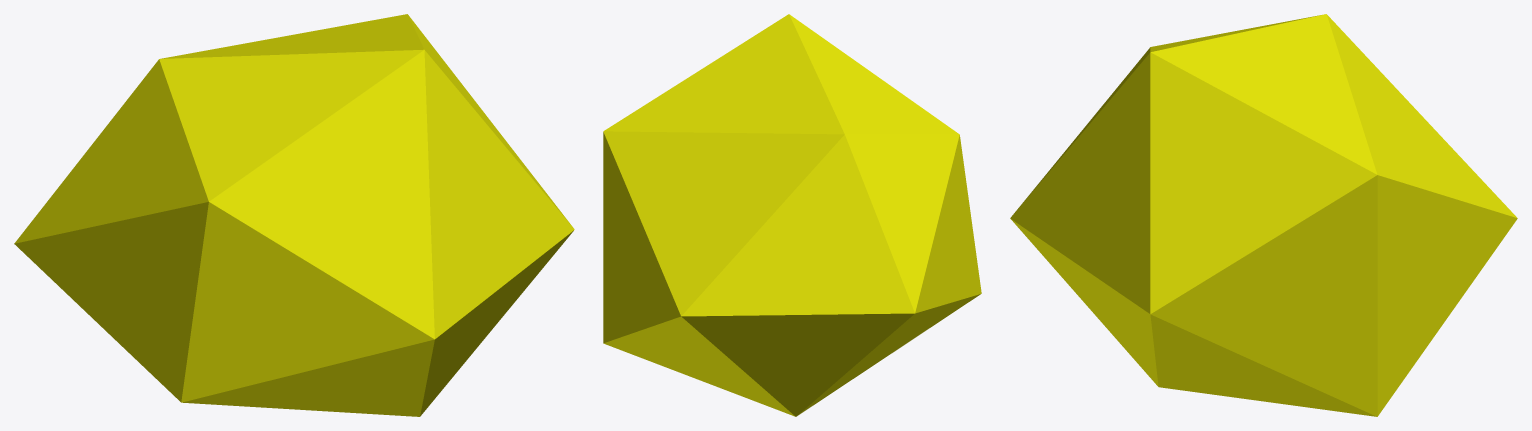
Rendered from Gold_Nugget.fbx.
3 renders of one model, left to right at view 1: azimuth 30°, elevation 25°; view 2: azimuth 150°, elevation 25°; view 3: azimuth 270°, elevation 25°, orthographic. The views are drawn at different scales.
Parts seen in each view (by area): view 1: GoldNugget; view 2: GoldNugget; view 3: GoldNugget.
Boxes of the visible parts, x1,y1,x2,y2 form: GoldNugget: (14,14,574,416); GoldNugget: (603,14,981,416); GoldNugget: (1010,14,1517,416).
Bounding box in the file's own units: 0.6884 × 0.5802 × 0.7696.
